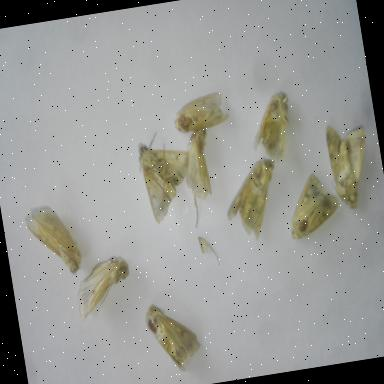abw: (124, 127, 201, 232), (136, 291, 210, 383), (212, 152, 286, 244), (320, 116, 380, 220), (20, 197, 88, 286), (63, 250, 140, 328), (173, 122, 225, 233), (279, 166, 348, 246), (242, 86, 301, 172), (166, 84, 234, 144)
